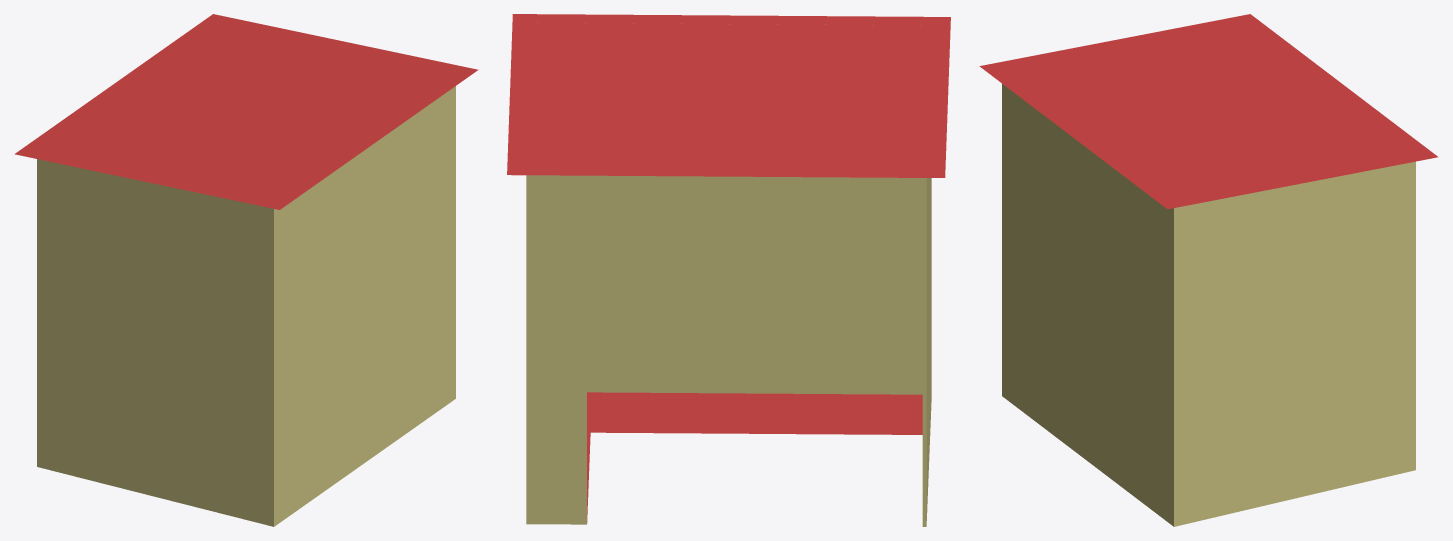
3 renders of one model, left to right at view 1: azimuth 30°, elevation 25°; view 2: azimuth 150°, elevation 25°; view 3: azimuth 270°, elevation 25°, orthographic. The views are drawn at different scales.
Bounding box in the file's own units: 7.31 × 6.86 × 5.39.
